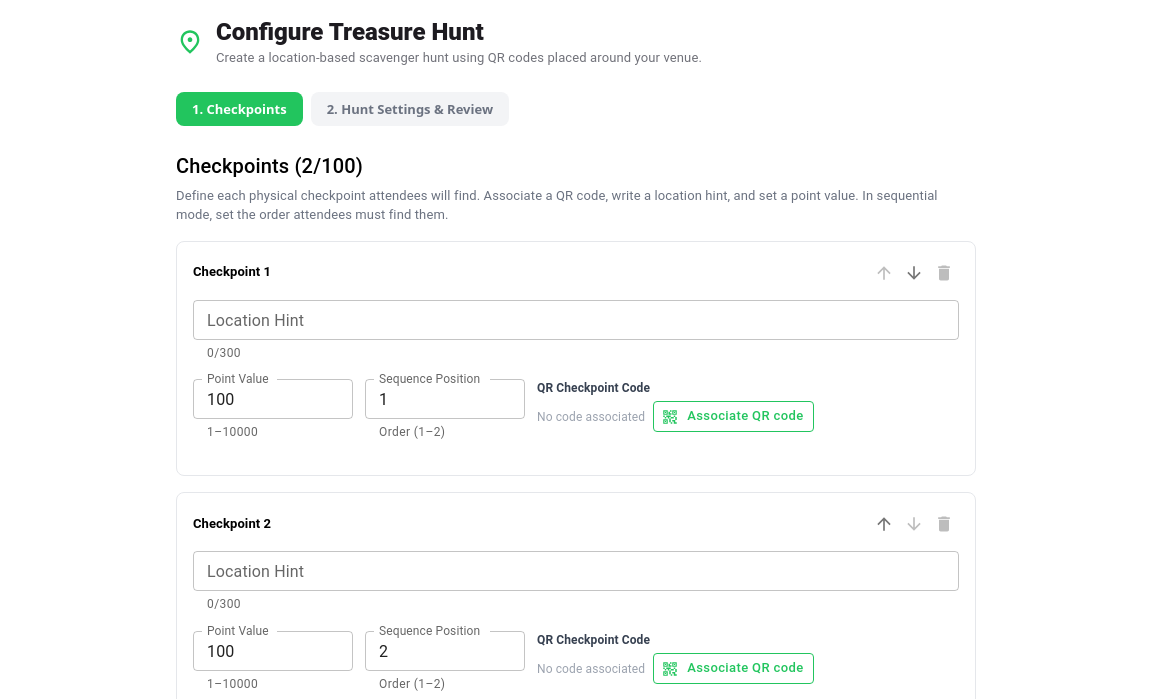
Scenario: TreasureHuntConfig › respects the checkpoint minimum of 2 when removing
Click the text "1. Checkpoints".
click(239, 108)  # box [176,92,303,126]
(page scrolled)
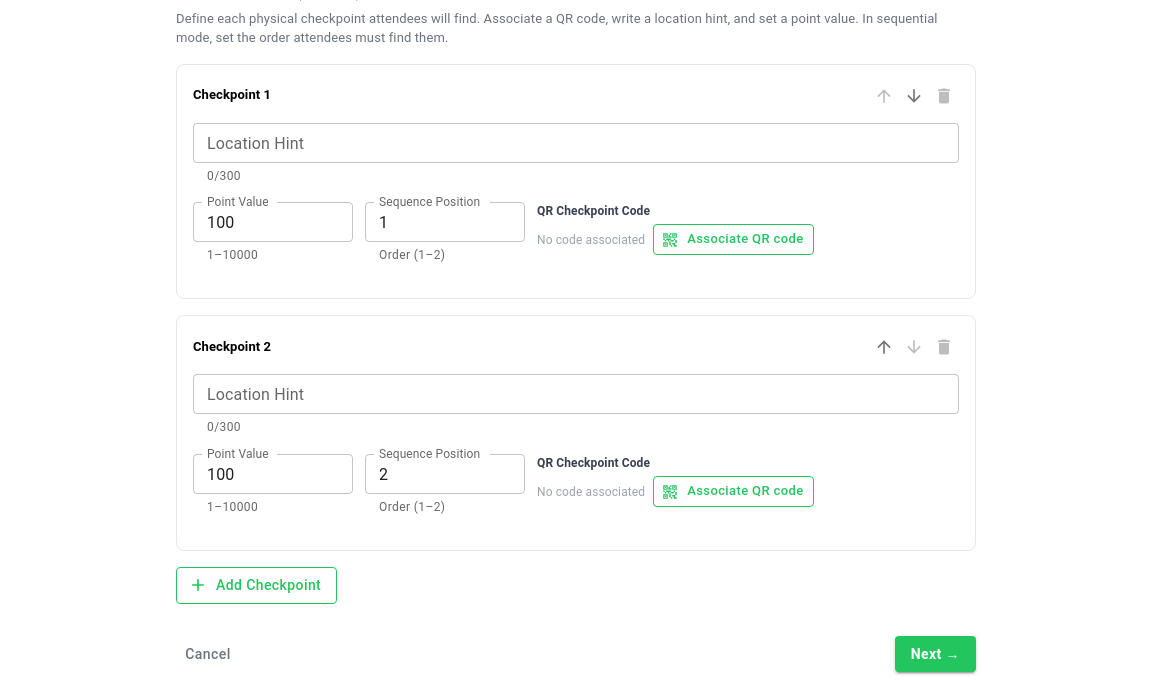
Expected: the button named "Remove checkpoint 1" is disabled, [929,80,959,110]
Expected: the button named "Remove checkpoint 2" is disabled, [929,332,959,362]
Click the button "Add Checkpoint".
click(257, 585)  # box [176,567,337,604]
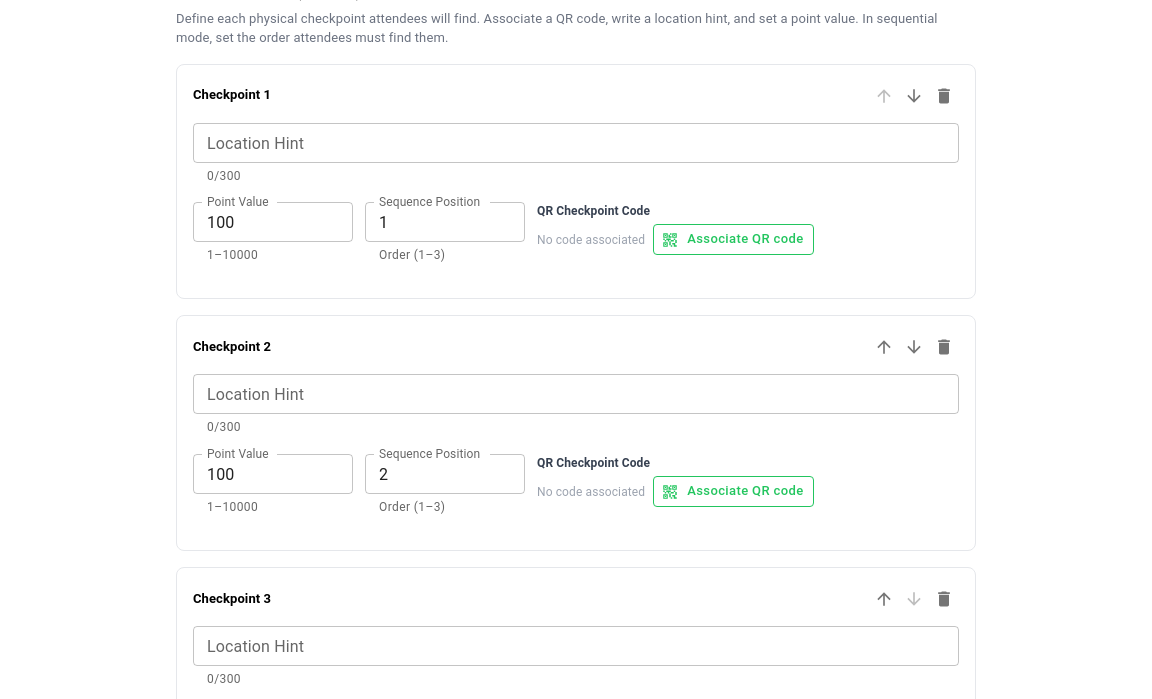
Expected: the button named "Remove checkpoint 1" is enabled, [929,80,959,110]
Click the button named "Remove checkpoint 3".
click(944, 599)  # box [929,584,959,614]
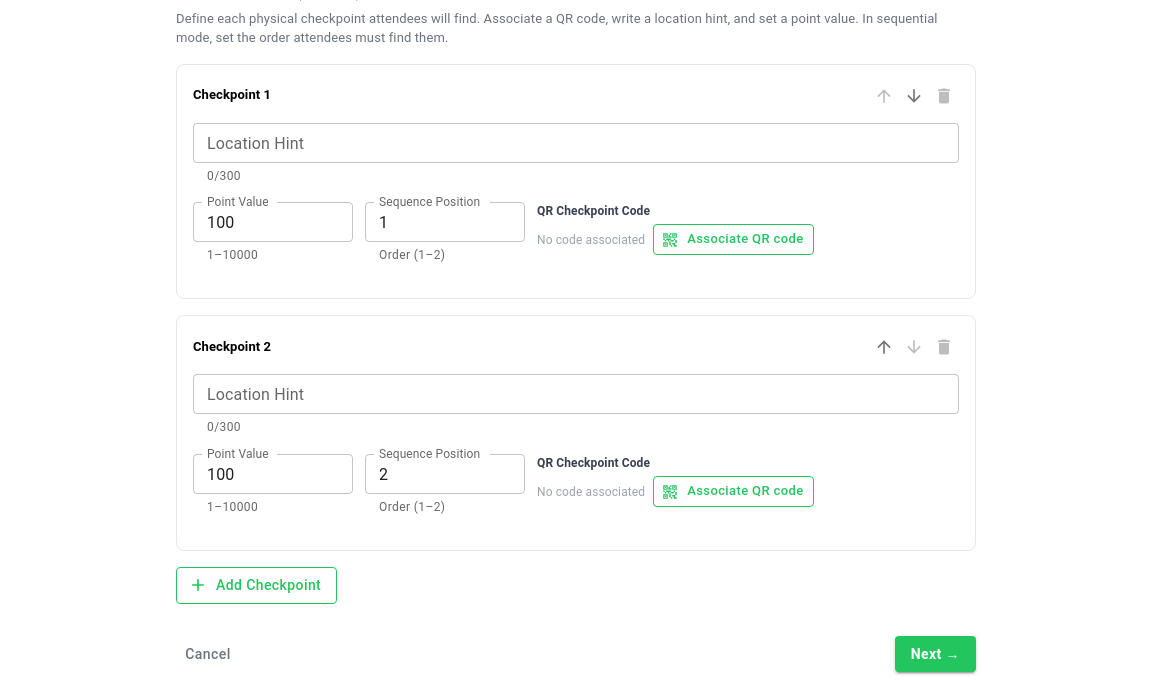
Expected: the button named "Remove checkpoint 1" is disabled, [929,80,959,110]
